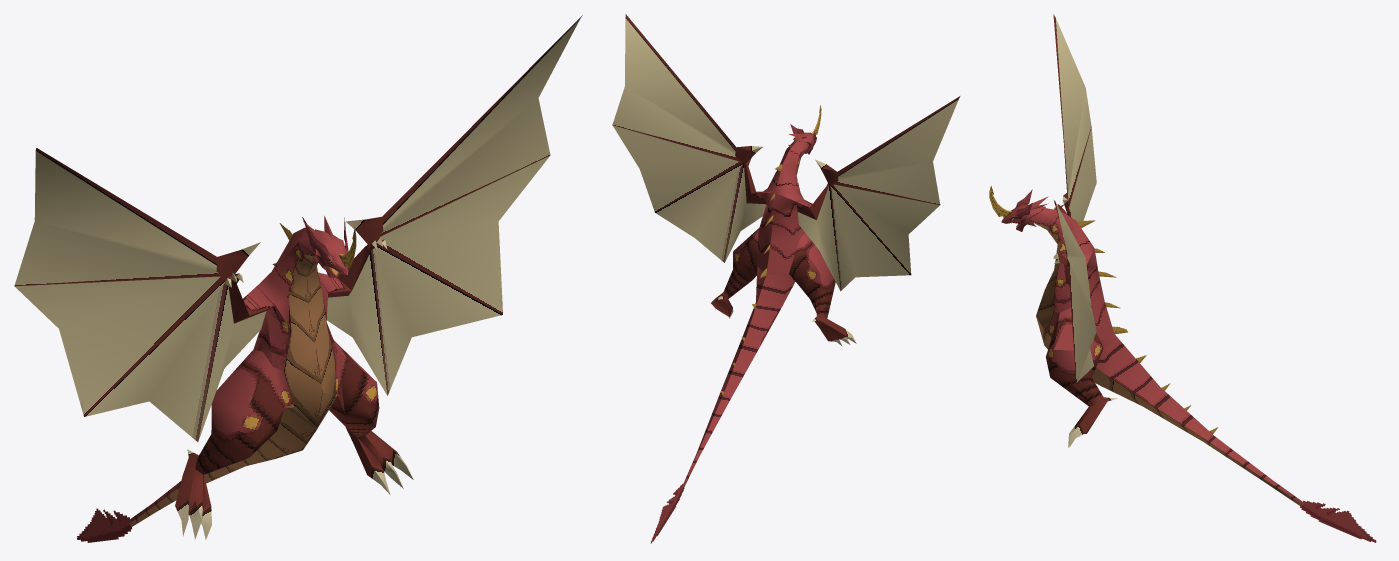
The picture shows the model from 3 angles, left to right: view 1: azimuth 30°, elevation 25°; view 2: azimuth 150°, elevation 25°; view 3: azimuth 270°, elevation 25°; orthographic projection. The views are drawn at different scales.
Visible parts, largest first — view 1: realb00_4, realb00, realb00_7, realb00_2, realb00_3, realb00_6; view 2: realb00_4, realb00_3, realb00_5, realb00, realb00_2, realb00_6; view 3: realb00_4, realb00_5, realb00_3, realb00, realb00_7, realb00_6, realb00_2.
Part boxes in pixels (bbox=[...]): realb00_4: bbox=[14, 15, 582, 441]; realb00: bbox=[195, 340, 379, 474]; realb00_7: bbox=[129, 255, 337, 526]; realb00_2: bbox=[175, 216, 413, 539]; realb00_3: bbox=[236, 227, 351, 370]; realb00_6: bbox=[77, 217, 338, 542]; realb00_4: bbox=[612, 14, 960, 291]; realb00_3: bbox=[747, 140, 816, 274]; realb00_5: bbox=[682, 266, 795, 486]; realb00: bbox=[723, 228, 835, 318]; realb00_2: bbox=[711, 124, 856, 345]; realb00_6: bbox=[650, 144, 792, 543]; realb00_4: bbox=[1053, 14, 1096, 382]; realb00_5: bbox=[1096, 334, 1304, 504]; realb00_3: bbox=[1016, 208, 1114, 341]; realb00: bbox=[1046, 308, 1103, 406]; realb00_7: bbox=[1033, 222, 1302, 506]; realb00_6: bbox=[1007, 204, 1376, 542]; realb00_2: bbox=[1001, 189, 1117, 447].
Size of the model in its own units: 33.13 by 36.75 by 29.92.
Materials: 8 (8 with a texture image).
